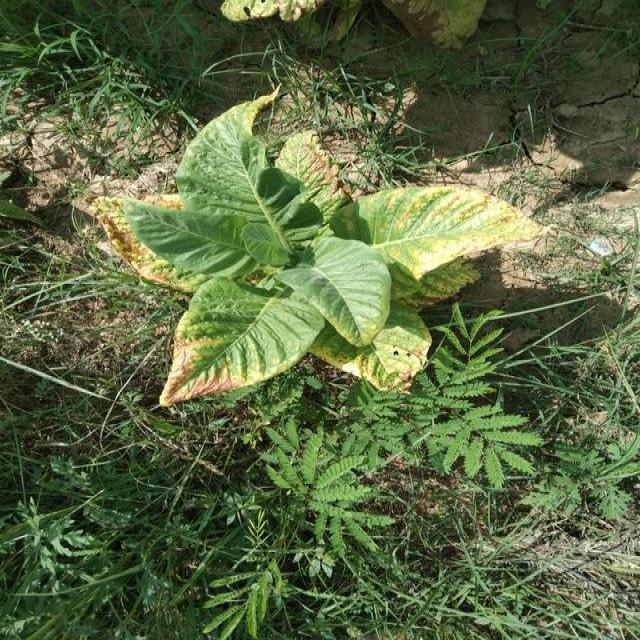crop: (72, 95, 539, 407)
